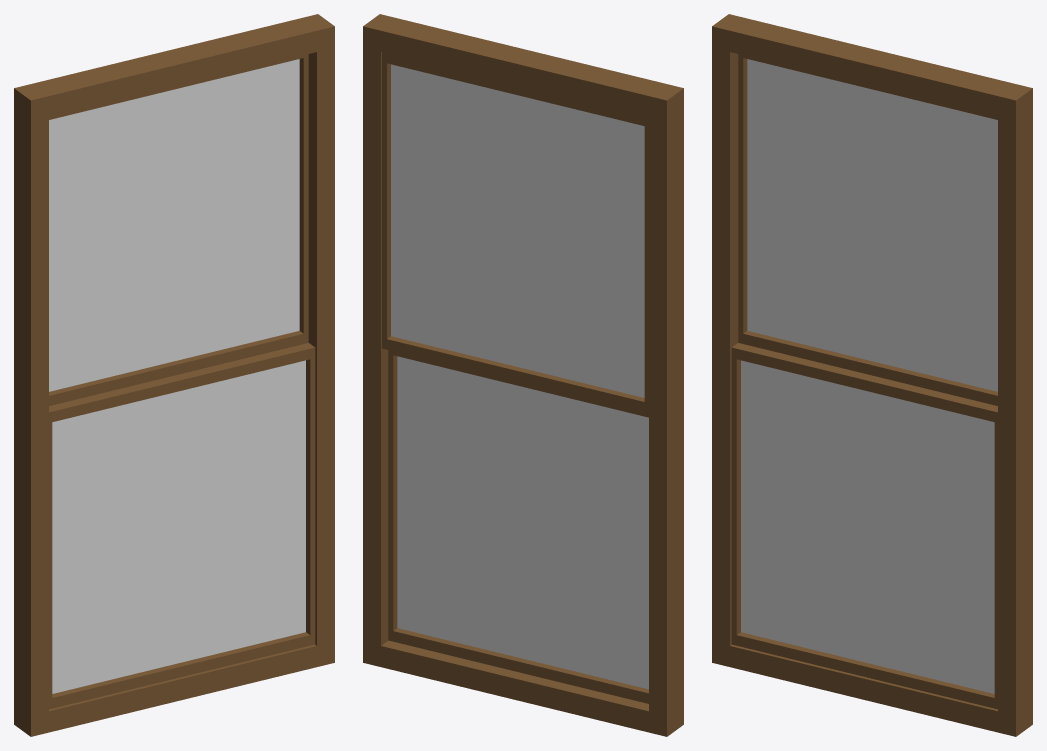
3 renders of one model, left to right at view 1: azimuth 30°, elevation 25°; view 2: azimuth 150°, elevation 25°; view 3: azimuth 330°, elevation 25°, orthographic.
Parts seen in each view (by area): view 1: Bottom Pane, Top Pane, Frame_Frame_0; view 2: Top Pane, Bottom Pane, Frame_Frame_0; view 3: Bottom Pane, Top Pane, Frame_Frame_0.
Part boxes in pixels (x1,y1,x2,y2): Bottom Pane: [49, 343, 315, 709]; Top Pane: [49, 54, 308, 405]; Frame_Frame_0: [14, 14, 334, 736]; Top Pane: [382, 52, 648, 413]; Bottom Pane: [388, 350, 648, 703]; Frame_Frame_0: [363, 14, 683, 736]; Bottom Pane: [731, 343, 997, 709]; Top Pane: [738, 54, 997, 405]; Frame_Frame_0: [712, 14, 1032, 736].
Bounding box in the file's own units: 99.96 × 200 × 9.62.
